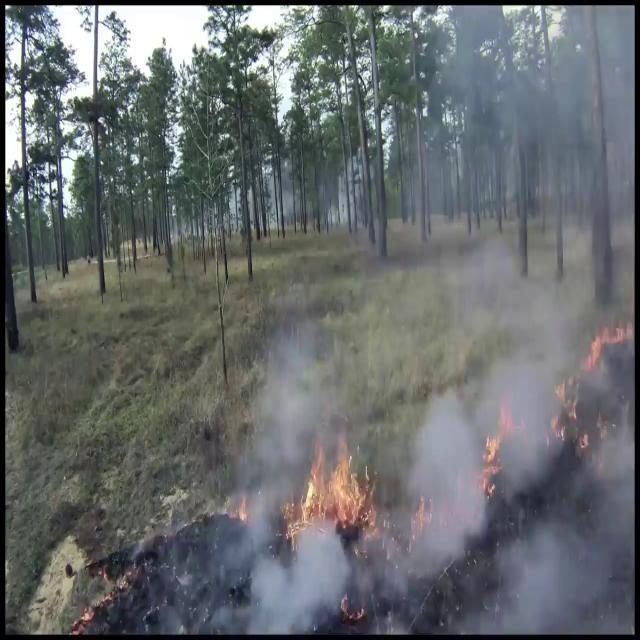Fire: (282, 426, 379, 549)
Smoke: (409, 6, 633, 620), (431, 0, 634, 630), (212, 222, 439, 632)
